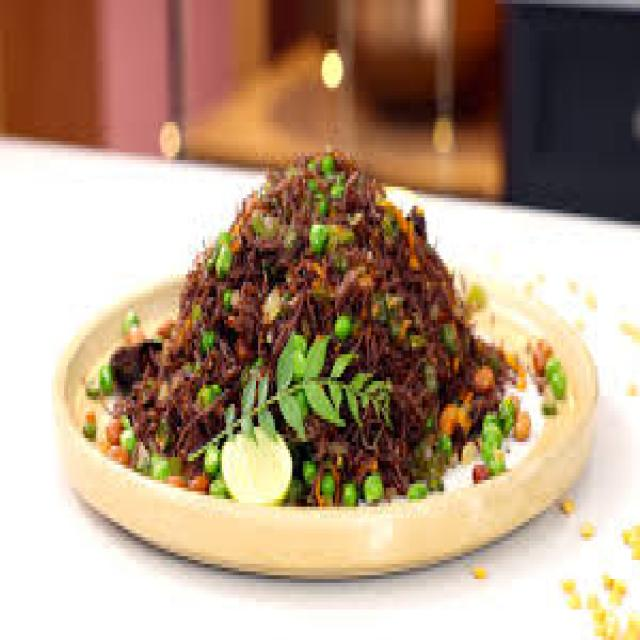UPMA: (75, 156, 544, 499)
